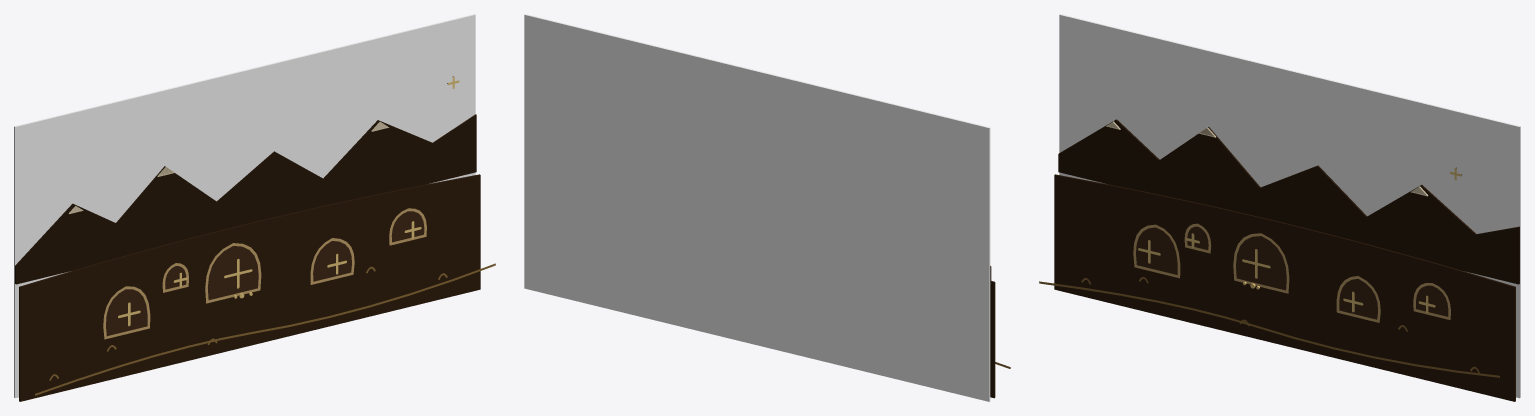
Rendered from loc-chuiskaya-dolina.glb.
3 views of the same model, side by side, from view 1: azimuth 30°, elevation 25°; view 2: azimuth 150°, elevation 25°; view 3: azimuth 330°, elevation 25° (orthographic).
Visible parts, largest first — view 1: loc-chuiskaya-dolina; view 2: loc-chuiskaya-dolina; view 3: loc-chuiskaya-dolina.
Part boxes in pixels (x1=…): loc-chuiskaya-dolina: x1=14, y1=14, x2=495, y2=401; loc-chuiskaya-dolina: x1=524, y1=14, x2=1010, y2=401; loc-chuiskaya-dolina: x1=1039, y1=14, x2=1520, y2=401.
Bounding box in the file's own units: 5.34 × 3 × 0.441.
